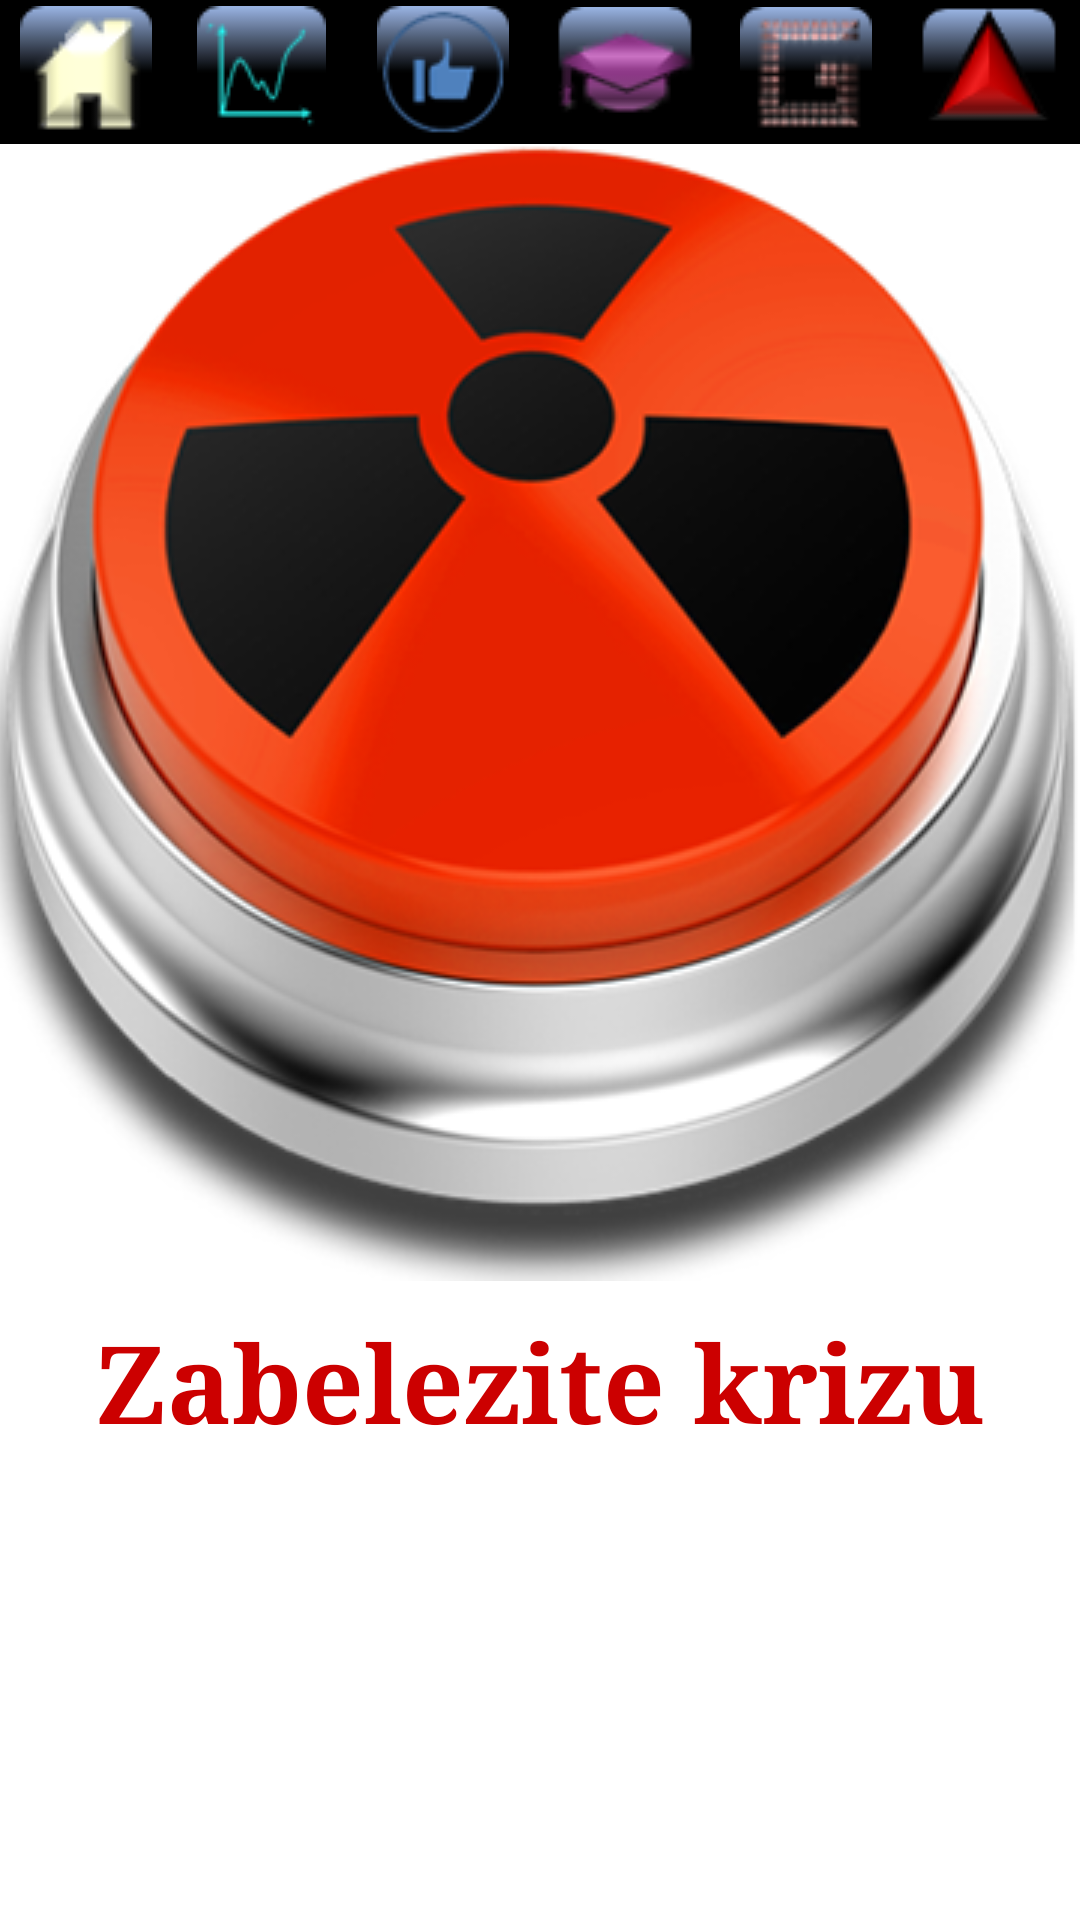

Named icons in this screenshot (1080 x 1920) and their bounding boxes, {"left": x1, "top": y1, "right": x2, "bottom": y2}:
Achievements: {"left": 558, "top": 7, "right": 692, "bottom": 112}
Game: {"left": 740, "top": 7, "right": 872, "bottom": 128}
Home: {"left": 20, "top": 6, "right": 152, "bottom": 130}
Motivations: {"left": 377, "top": 6, "right": 509, "bottom": 133}
Progress: {"left": 197, "top": 6, "right": 326, "bottom": 125}
